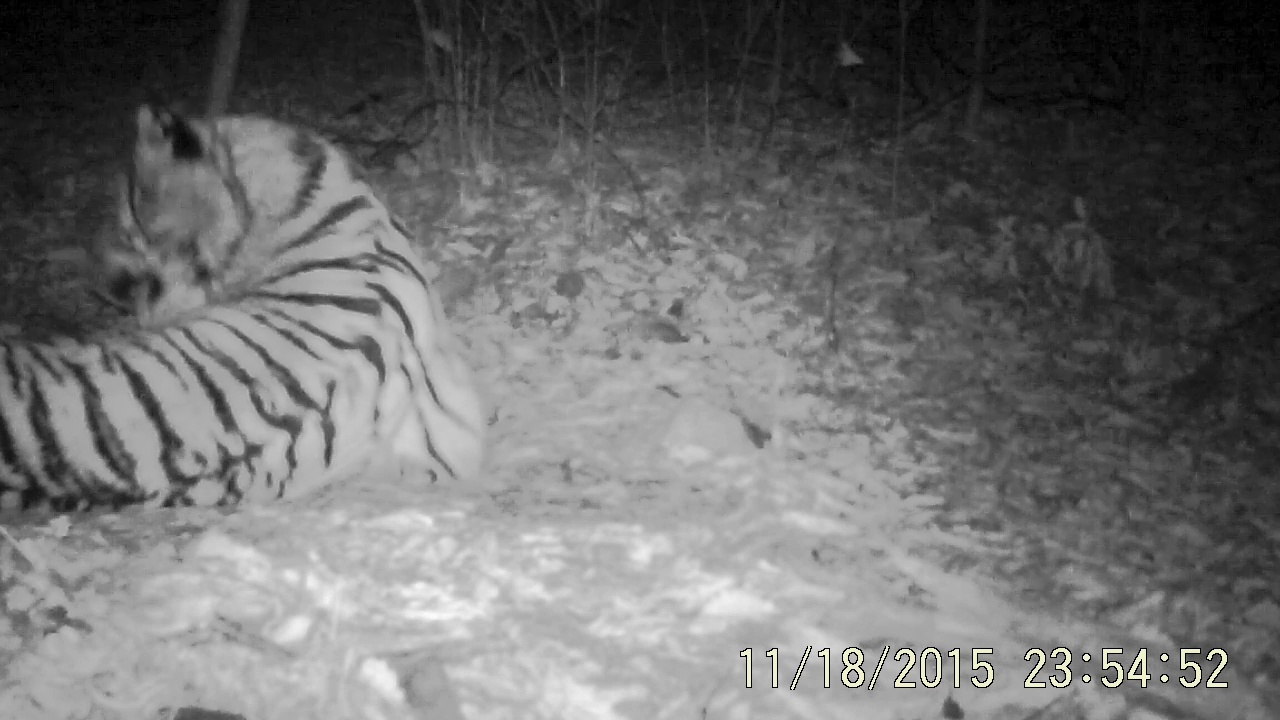Tiger: (2, 35, 563, 542)
